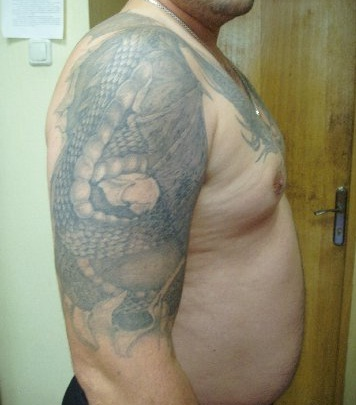tatu6_drakon: (38, 4, 237, 379)
